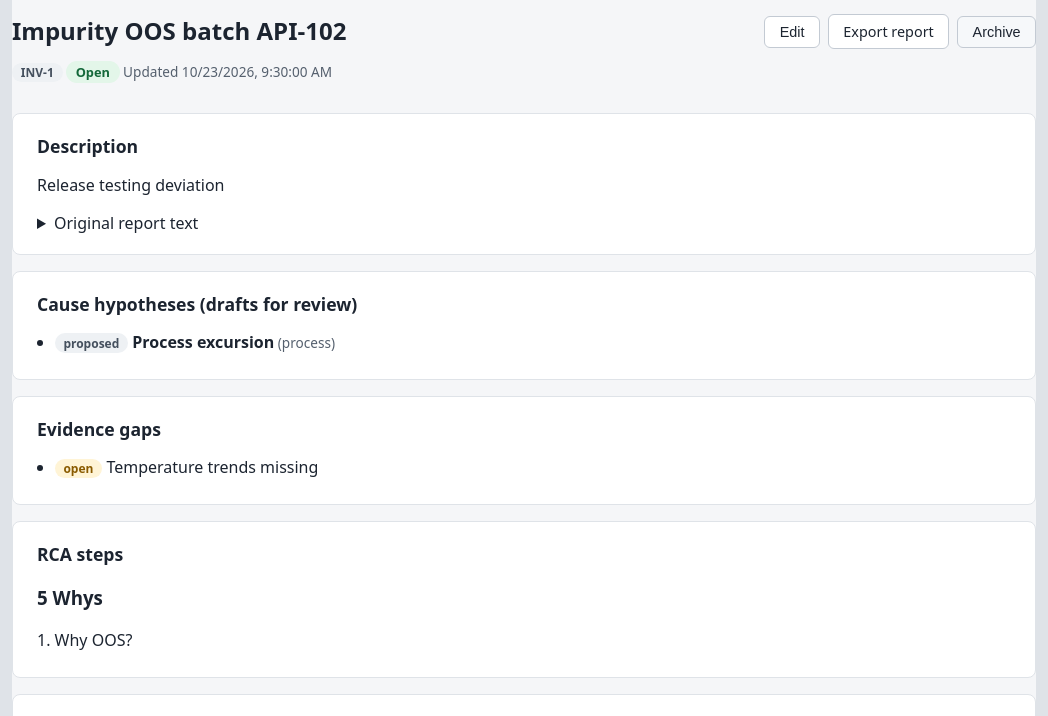
it: shows empty-list hints in edit mode for lists with no items
Expected: the heading "Impurity OOS batch API-102" is shown, [12,14,346,47]
Click the button "Edit".
click(792, 32)  # box [764,16,820,48]
(page scrolled)
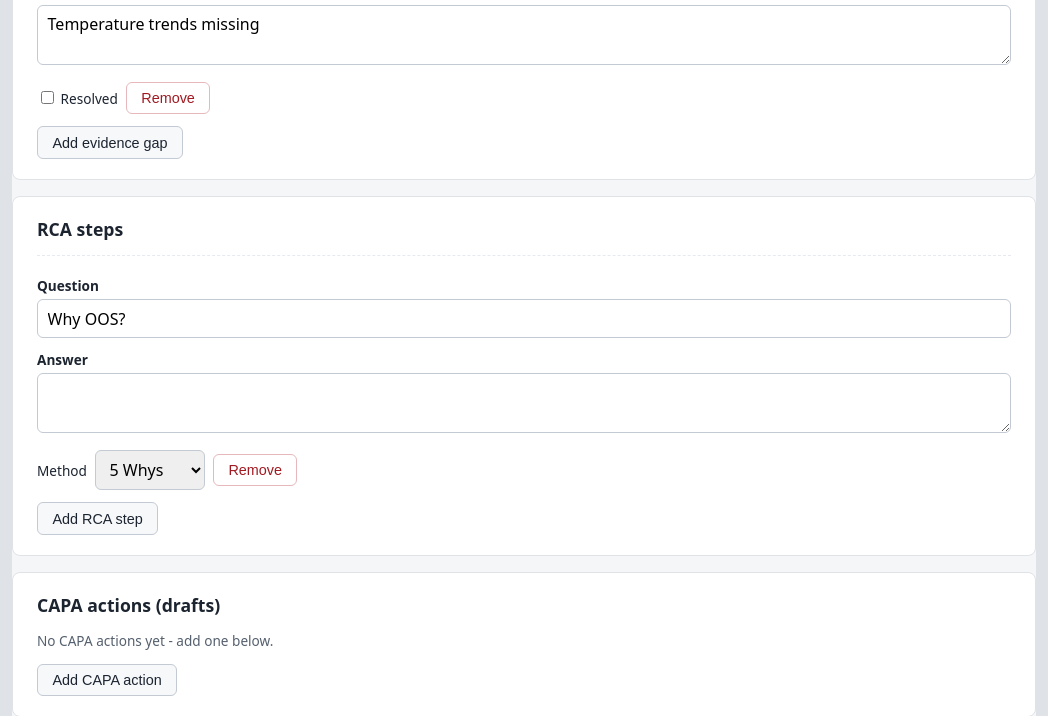
Now the text "No CAPA actions yet - add one below." is shown, box [37,631,273,650]
